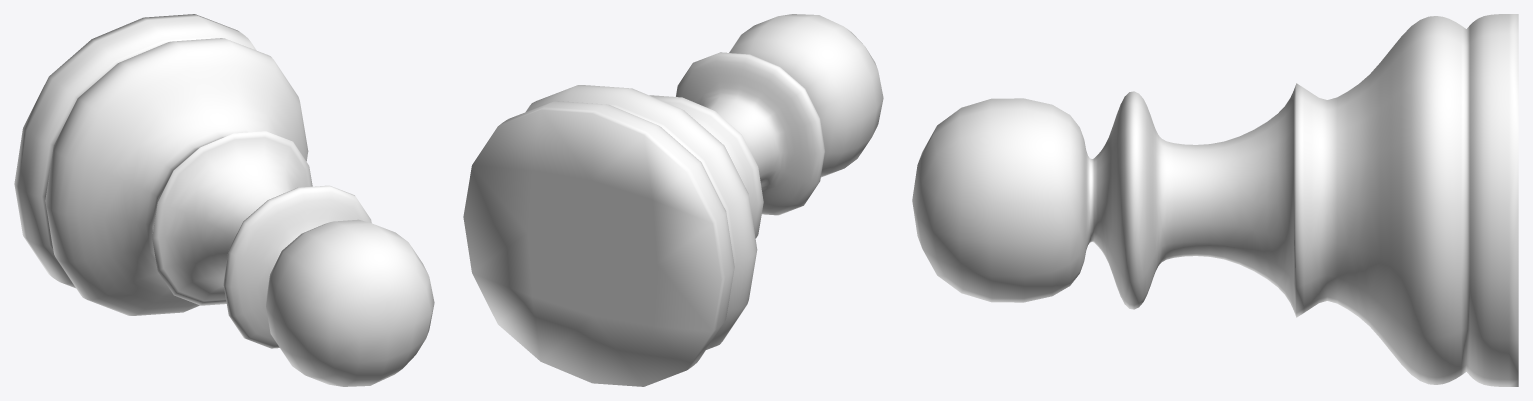
Rendered from pawn_black.fbx.
3 renders of one model, left to right at view 1: azimuth 30°, elevation 25°; view 2: azimuth 150°, elevation 25°; view 3: azimuth 270°, elevation 25°, orthographic. The views are drawn at different scales.
Visible parts, largest first — view 1: Cube; view 2: Cube; view 3: Cube.
Part boxes in pixels (box(x1,y1,x2,y2)): Cube: box(14, 14, 434, 386); Cube: box(463, 14, 883, 386); Cube: box(912, 14, 1518, 386).
Size of the model in its own units: 0.9961 by 0.9961 by 1.64.
